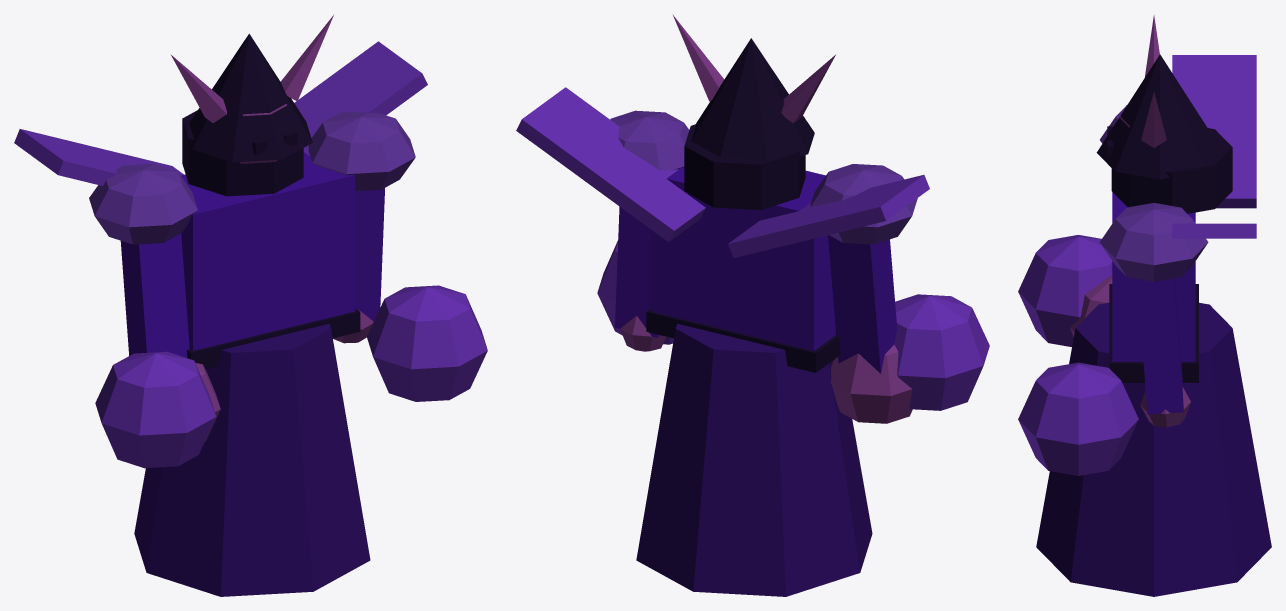
Rendered from SM_Monster_10004_ElderWraith.glb.
3 views of the same model, side by side, from view 1: azimuth 30°, elevation 25°; view 2: azimuth 150°, elevation 25°; view 3: azimuth 270°, elevation 25° (orthographic). The views are drawn at different scales.
Visible parts, largest first — view 1: SM_Monster_10004_ElderWraith; view 2: SM_Monster_10004_ElderWraith; view 3: SM_Monster_10004_ElderWraith.
Boxes of the visible parts, box(x1,y1,x2,y2) form: SM_Monster_10004_ElderWraith: box(14, 15, 487, 596); SM_Monster_10004_ElderWraith: box(516, 14, 989, 596); SM_Monster_10004_ElderWraith: box(1018, 15, 1271, 596).
Size of the model in its own units: 2.1 by 2.71 by 1.26.
